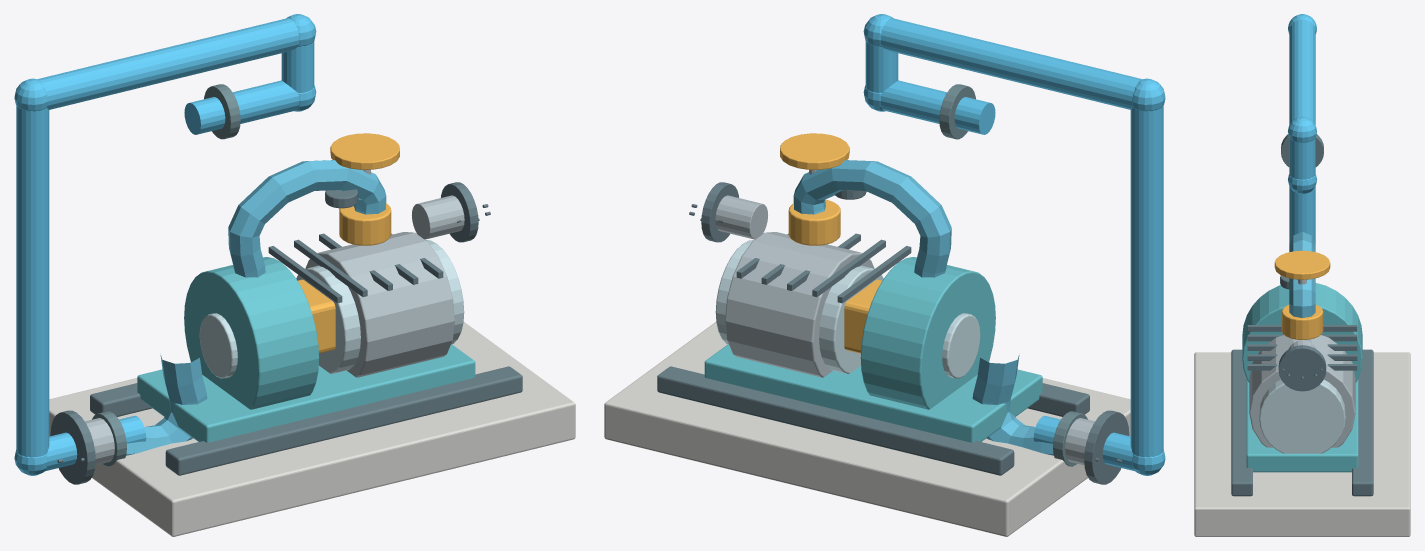
3 renders of one model, left to right at view 1: azimuth 30°, elevation 25°; view 2: azimuth 150°, elevation 25°; view 3: azimuth 270°, elevation 25°, orthographic. The views are drawn at different scales.
Visible parts, largest first — view 1: render-batch-7, render-batch-0, render-batch-3, render-batch-1, render-batch-5, render-batch-2, render-batch-6, render-batch-8, render-batch-4; view 2: render-batch-7, render-batch-0, render-batch-3, render-batch-1, render-batch-5, render-batch-2, render-batch-6, render-batch-8, render-batch-4; view 3: render-batch-7, render-batch-1, render-batch-3, render-batch-0, render-batch-6, render-batch-5, render-batch-8, render-batch-2, render-batch-4.
Part boxes in pixels (left/top/right/bottom): render-batch-7: left=49, top=322, right=575, bottom=536; render-batch-0: left=14, top=14, right=316, bottom=475; render-batch-3: left=137, top=257, right=475, bottom=442; render-batch-1: left=50, top=182, right=522, bottom=484; render-batch-5: left=85, top=169, right=464, bottom=465; render-batch-2: left=126, top=160, right=386, bottom=455; render-batch-6: left=199, top=240, right=464, bottom=378; render-batch-8: left=298, top=133, right=399, bottom=353; render-batch-4: left=92, top=84, right=240, bottom=466; render-batch-7: left=604, top=322, right=1130, bottom=536; render-batch-0: left=863, top=14, right=1165, bottom=475; render-batch-3: left=704, top=257, right=1042, bottom=442; render-batch-1: left=657, top=182, right=1129, bottom=484; render-batch-5: left=715, top=169, right=1094, bottom=465; render-batch-2: left=793, top=160, right=1053, bottom=455; render-batch-6: left=715, top=240, right=980, bottom=378; render-batch-8: left=780, top=133, right=881, bottom=353; render-batch-4: left=939, top=84, right=1087, bottom=466; render-batch-7: left=1194, top=352, right=1410, bottom=536; render-batch-1: left=1231, top=275, right=1373, bottom=496; render-batch-3: left=1242, top=283, right=1362, bottom=472; render-batch-0: left=1288, top=14, right=1316, bottom=244; render-batch-6: left=1259, top=379, right=1345, bottom=453; render-batch-5: left=1249, top=279, right=1355, bottom=447; render-batch-8: left=1274, top=250, right=1330, bottom=339; render-batch-2: left=1289, top=232, right=1315, bottom=317; render-batch-4: left=1281, top=134, right=1323, bottom=166.
Size of the model in its own units: 5.84 by 4.83 by 2.8.
